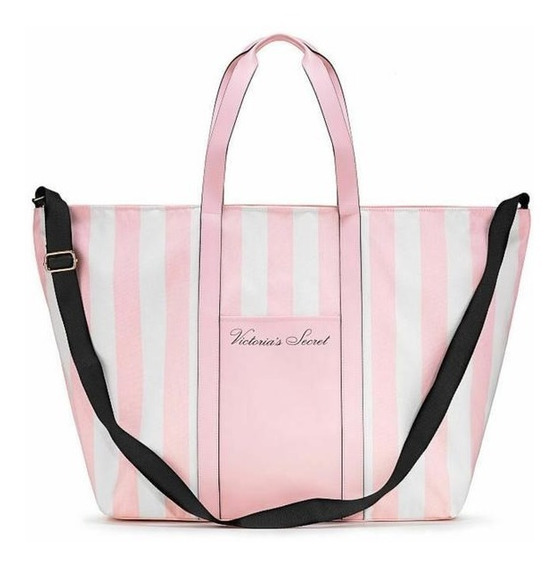cartera: (33, 33, 533, 530)
